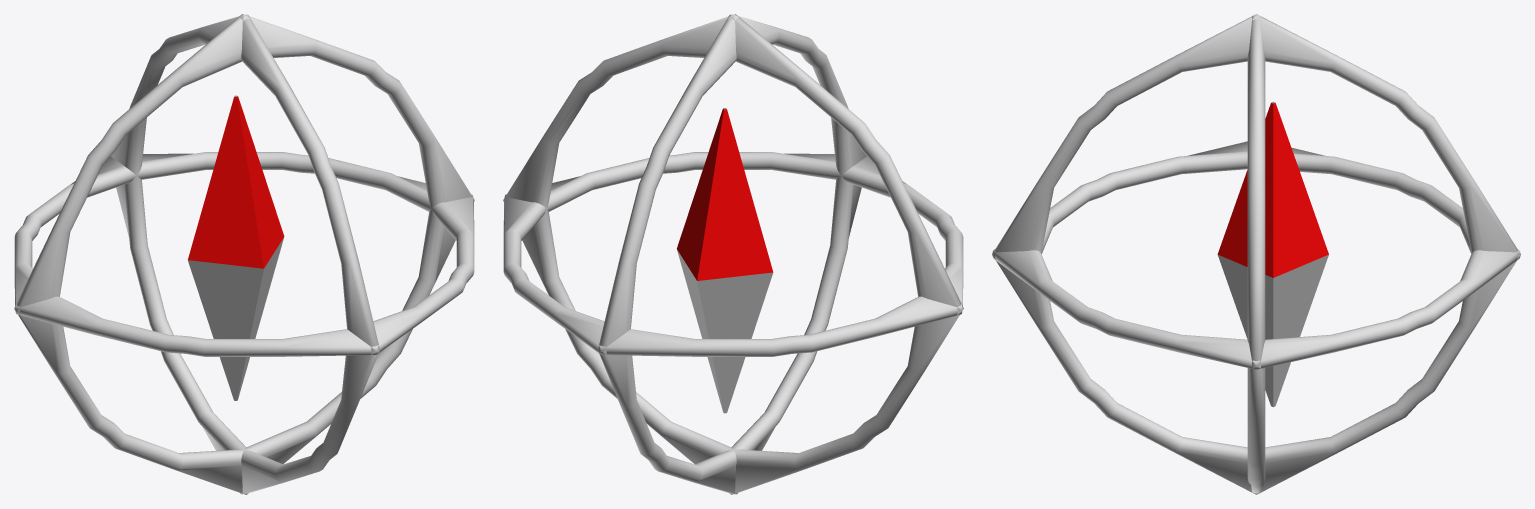
The model's file is Gyroscope.FBX.
The picture shows the model from 3 angles, left to right: view 1: azimuth 30°, elevation 25°; view 2: azimuth 150°, elevation 25°; view 3: azimuth 270°, elevation 25°; orthographic projection.
Parts seen in each view (by area): view 1: Arrow, Gyro; view 2: Arrow, Gyro; view 3: Arrow, Gyro.
Boxes of the visible parts, x1,y1,x2,y2 form: Arrow: (14,14,474,494); Gyro: (188,95,284,400); Arrow: (503,14,963,494); Gyro: (677,108,773,413); Arrow: (992,14,1520,494); Gyro: (1217,101,1328,407).
Size of the model in its own units: 23.21 by 23.21 by 23.21.
